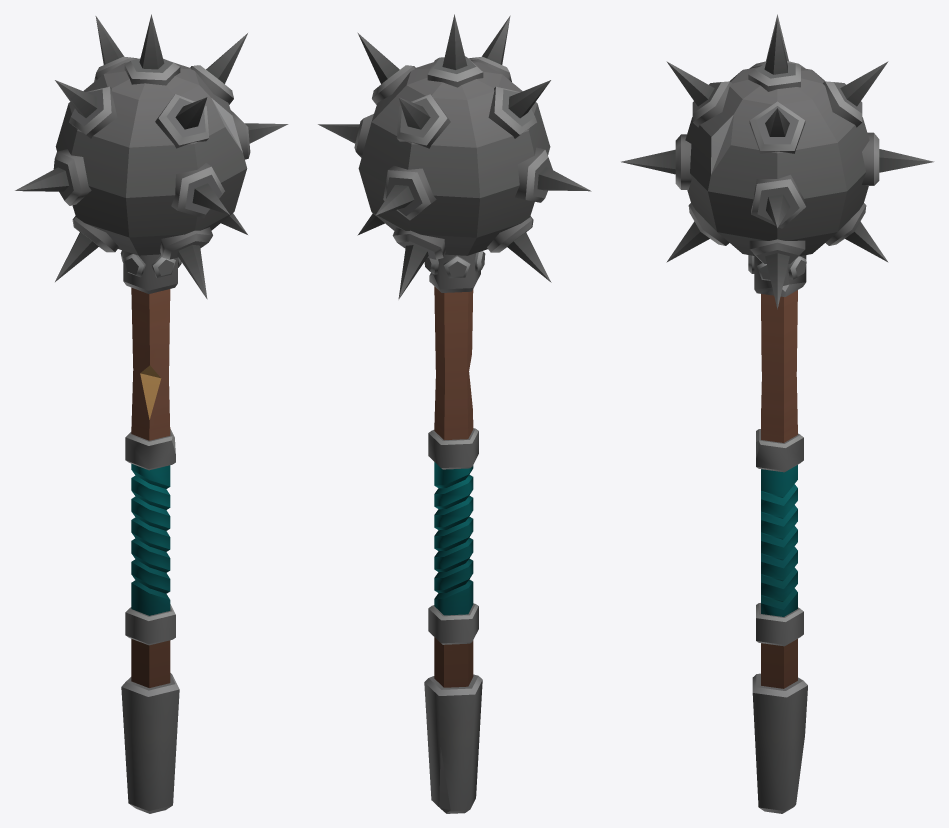
File: SpikedClub_2_B.glb
3 renders of one model, left to right at view 1: azimuth 30°, elevation 25°; view 2: azimuth 150°, elevation 25°; view 3: azimuth 270°, elevation 25°, orthographic.
Visible parts, largest first — view 1: SpikedClub_2_B; view 2: SpikedClub_2_B; view 3: SpikedClub_2_B.
Boxes of the visible parts, x1=… form: SpikedClub_2_B: x1=15, y1=14, x2=288, y2=813; SpikedClub_2_B: x1=318, y1=14, x2=591, y2=813; SpikedClub_2_B: x1=621, y1=14, x2=934, y2=813.
Size of the model in its own units: 0.5071 by 1.4 by 0.5071.
Materials: 2 (2 with a texture image).
